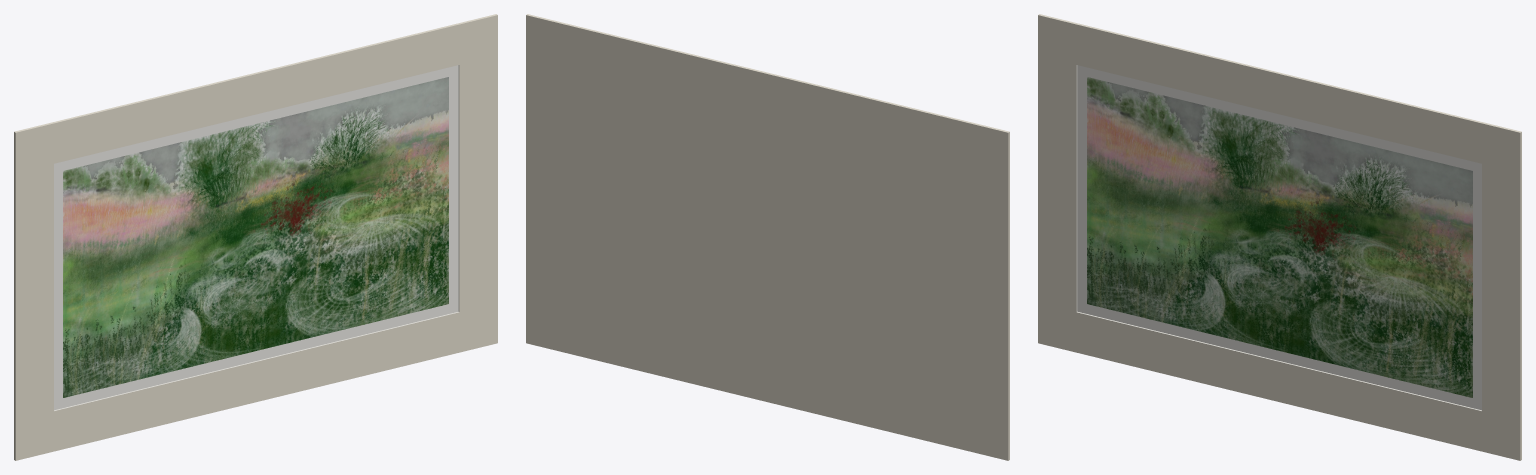
Rendered from hz078_moyen_passe-partout.glb.
The picture shows the model from 3 angles, left to right: view 1: azimuth 30°, elevation 25°; view 2: azimuth 150°, elevation 25°; view 3: azimuth 330°, elevation 25°; orthographic projection.
Parts seen in each view (by area): view 1: hz078_moyen_passe-partout; view 2: hz078_moyen_passe-partout; view 3: hz078_moyen_passe-partout.
Part boxes in pixels (x1,y1,x2,y2): hz078_moyen_passe-partout: (14,14,497,460); hz078_moyen_passe-partout: (526,14,1009,460); hz078_moyen_passe-partout: (1038,14,1521,460).
Size of the model in its own units: 1 by 0.65 by 0.0055.
4 materials, 1 textured.
